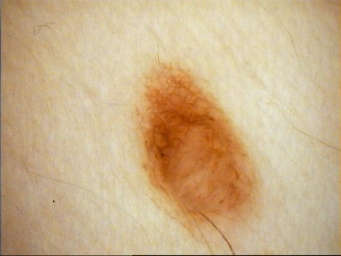nevus: (142, 64, 253, 222)
